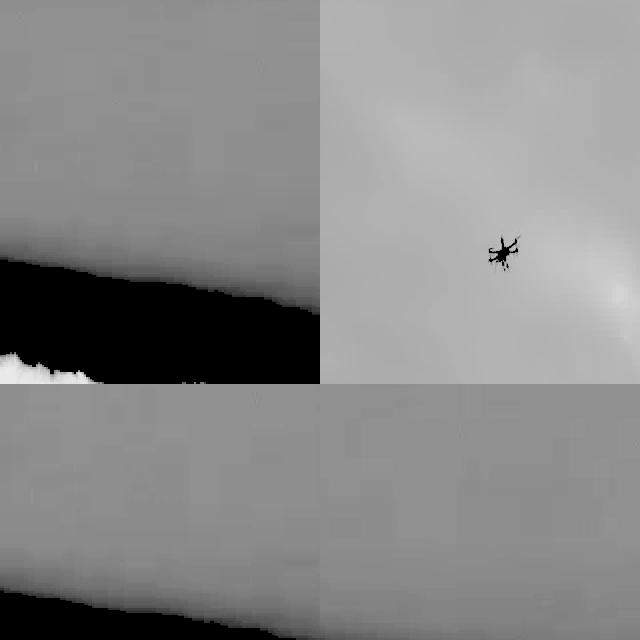0: (3, 628, 33, 640)
drone: (480, 223, 520, 270)
